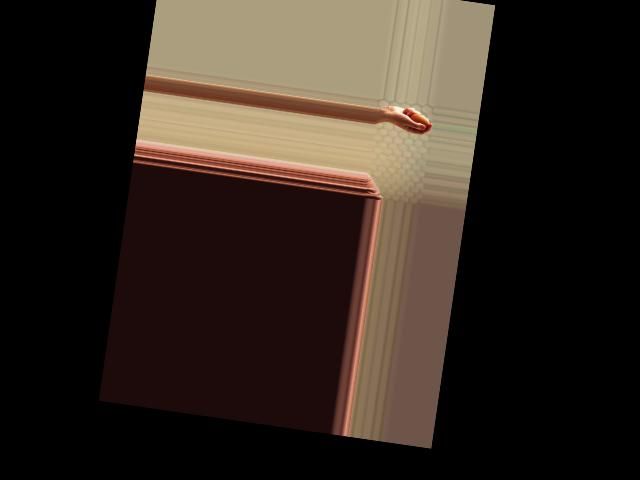egg: (408, 111, 430, 129)
